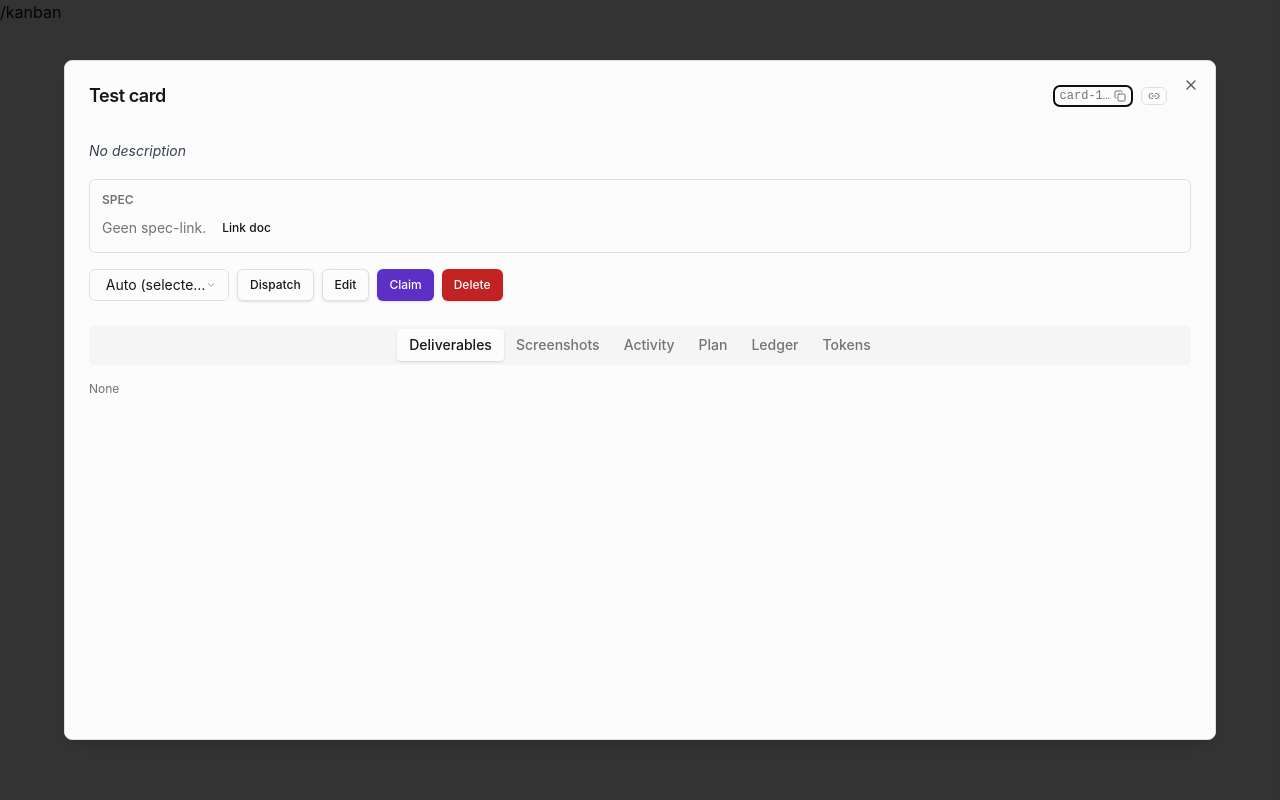
Scenario: CardDrawer Ledger tab › renders the five-step spine from the run-ledger endpoint
Press the mouse on the tab "Ledger" at x=775, y=345, box [739, 329, 810, 361]
(page scrolled)
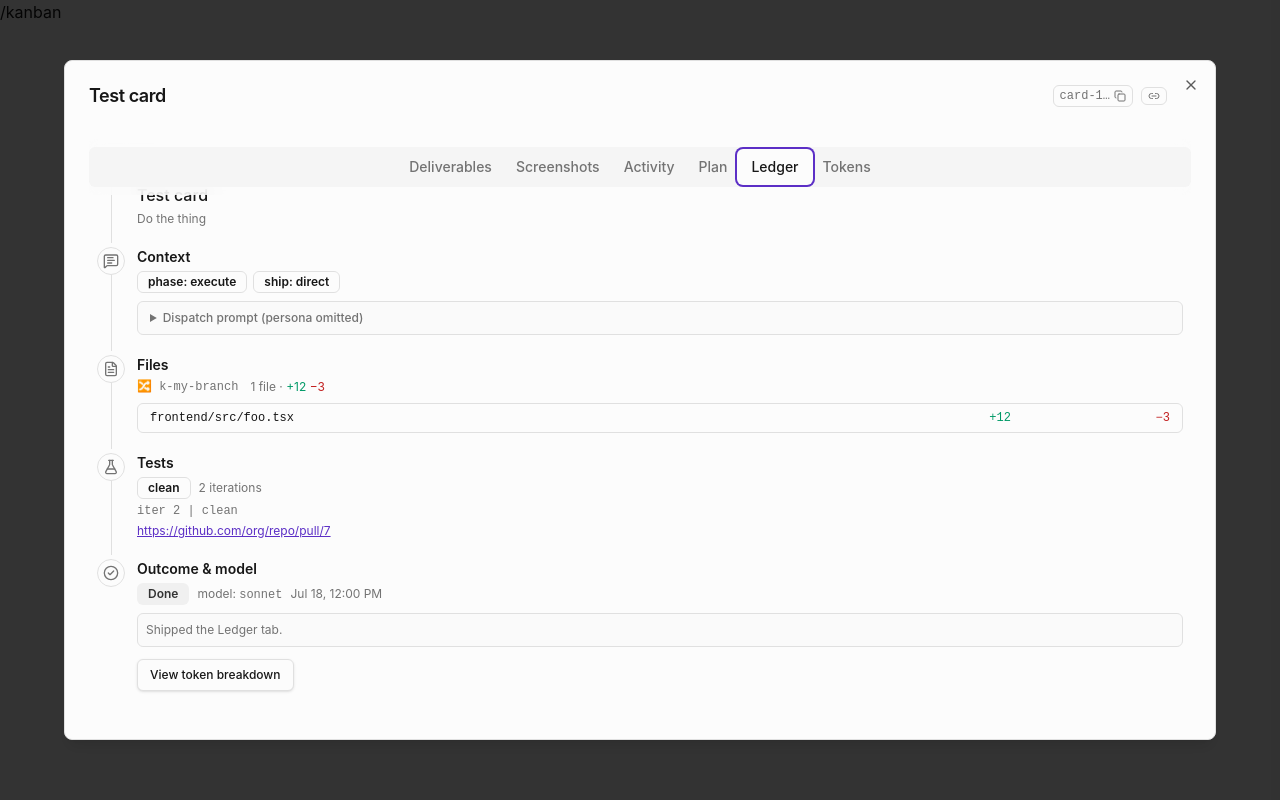
Result: the list with test id "ledger-timeline" is shown
Result: the list with test id "ledger-timeline" shows "Context" at [137, 248, 190, 265]
Result: the list with test id "ledger-timeline" shows "Files" at [137, 356, 168, 373]
